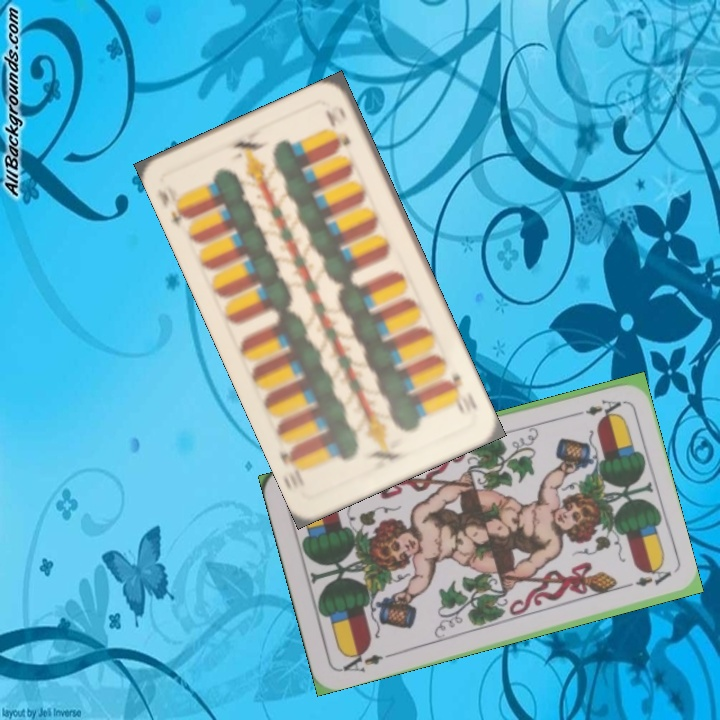E10: (153, 184, 195, 230), (442, 368, 475, 415)
EA: (336, 646, 394, 675), (567, 395, 624, 420)
